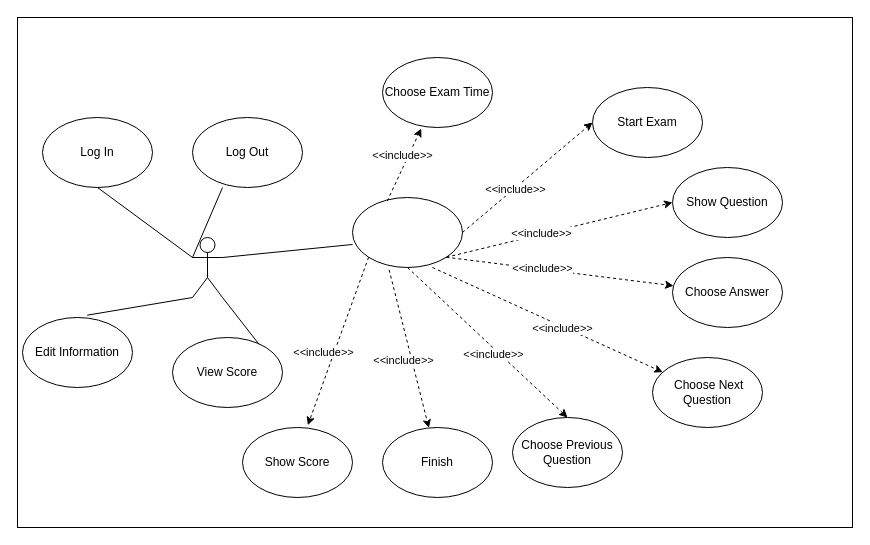
Image size: 870x545. Some labels were removed from this diagram. The box of each missing label's shape, as (x1, y1, x2, y2) in pixels:
Do Exam: (352, 196, 462, 268)
Student: (192, 236, 222, 298)
